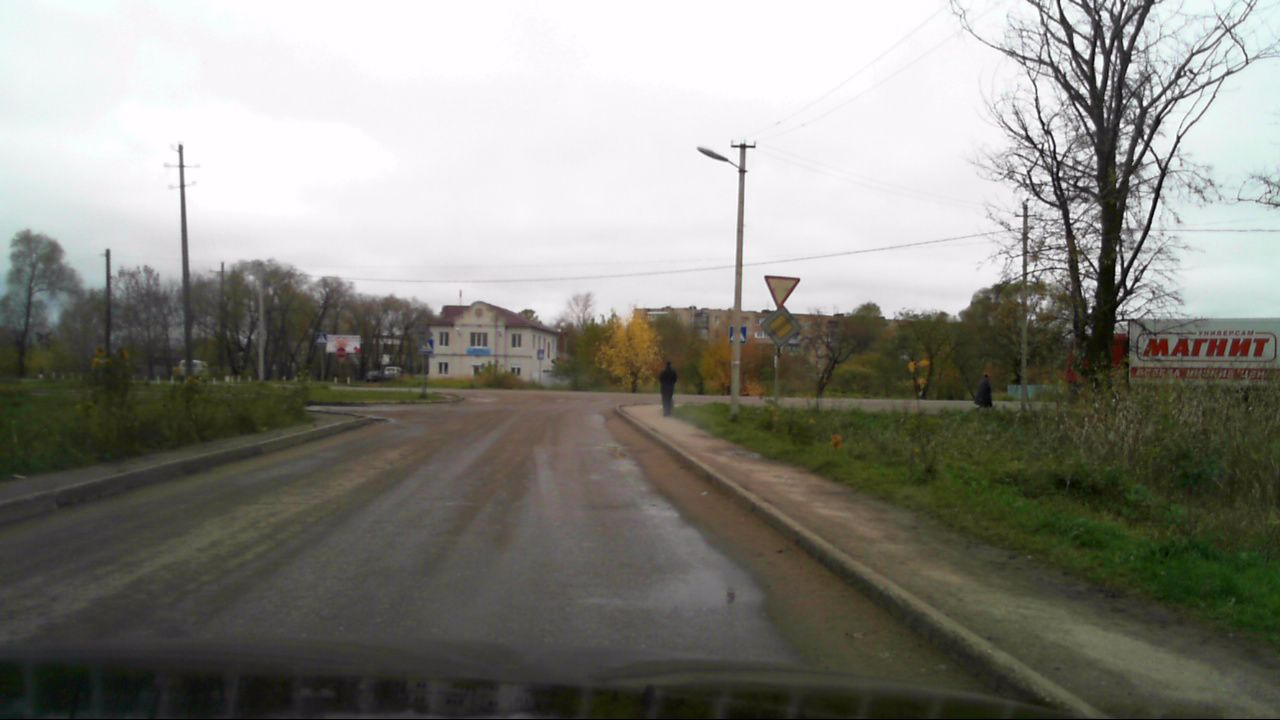main road: (760, 306, 800, 347)
